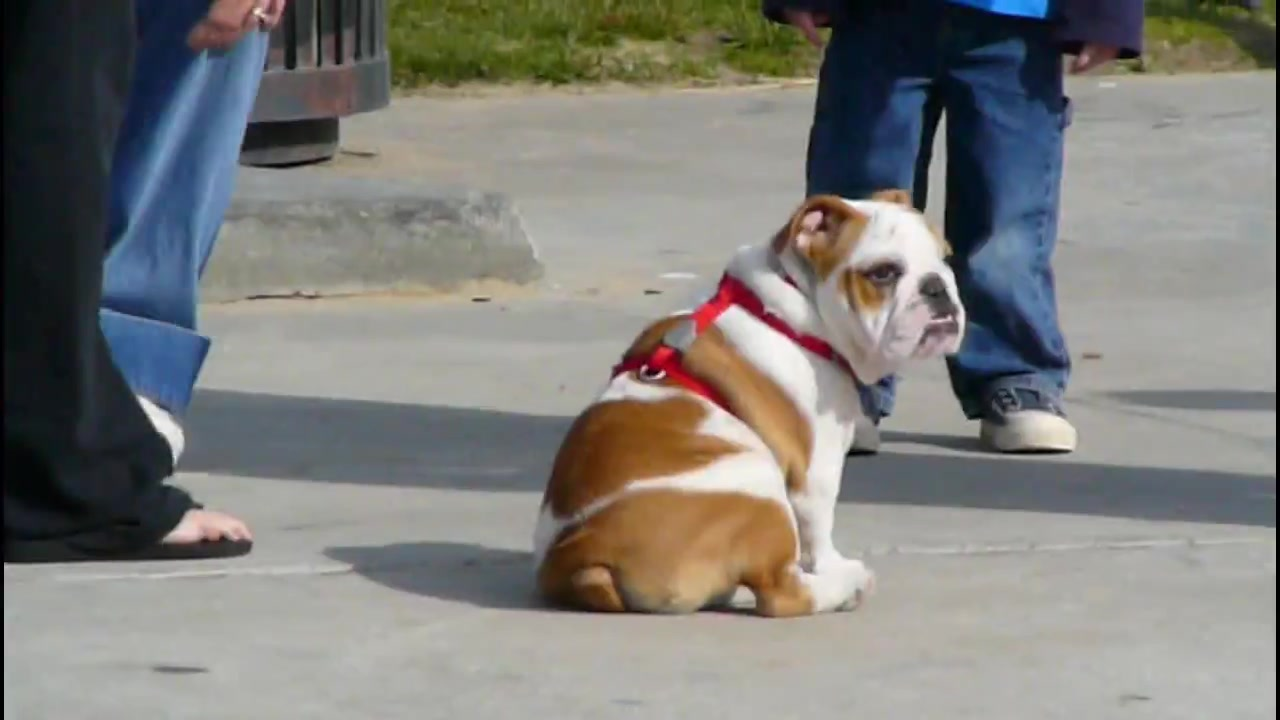dog: (532, 193, 970, 625)
